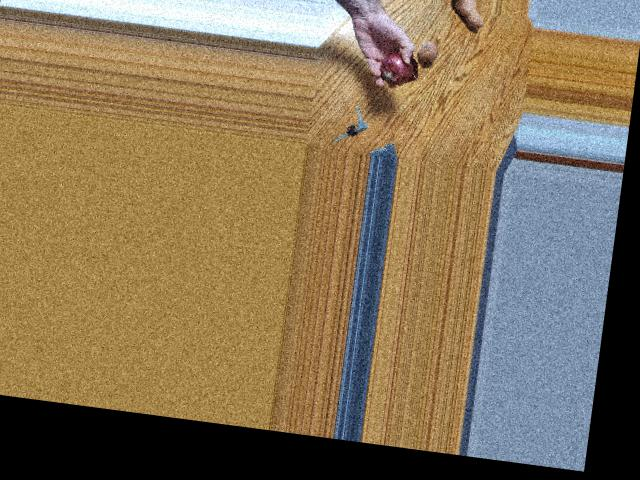onion: (380, 52, 413, 85)
